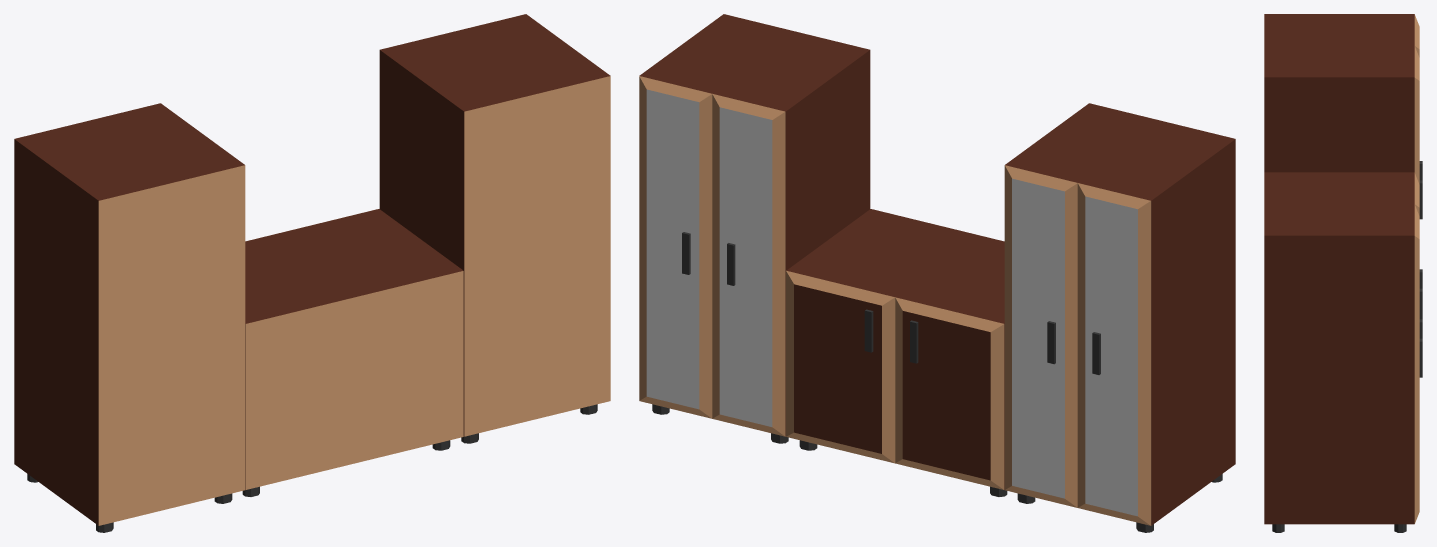
Rendered from WallUnit.fbx.
3 views of the same model, side by side, from view 1: azimuth 30°, elevation 25°; view 2: azimuth 150°, elevation 25°; view 3: azimuth 270°, elevation 25° (orthographic). The views are drawn at different scales.
Visible parts, largest first — view 1: WallUnitMain; view 2: WallUnitMain, WallUnitDoor4, WallUnitDoor2, WallUnitDoor3, WallUnitDoor5, WallUnitDoor1, WallUnitDoor1.001; view 3: WallUnitMain, WallUnitDoor2, WallUnitDoor3, WallUnitDoor4, WallUnitDoor5.
Part boxes in pixels (x1,y1,x2,y2): WallUnitMain: (14, 14, 610, 532); WallUnitMain: (639, 14, 1235, 532); WallUnitDoor4: (1077, 183, 1150, 525); WallUnitDoor2: (639, 76, 712, 418); WallUnitDoor3: (1004, 165, 1077, 507); WallUnitDoor5: (712, 94, 785, 436); WallUnitDoor1: (786, 270, 895, 463); WallUnitDoor1.001: (895, 297, 1004, 489); WallUnitMain: (1264, 14, 1414, 532); WallUnitDoor2: (1414, 204, 1422, 523); WallUnitDoor3: (1414, 46, 1422, 219); WallUnitDoor4: (1414, 14, 1422, 180); WallUnitDoor5: (1414, 173, 1422, 338).
Bounding box in the file's own units: 2.8 × 0.844 × 1.77.
